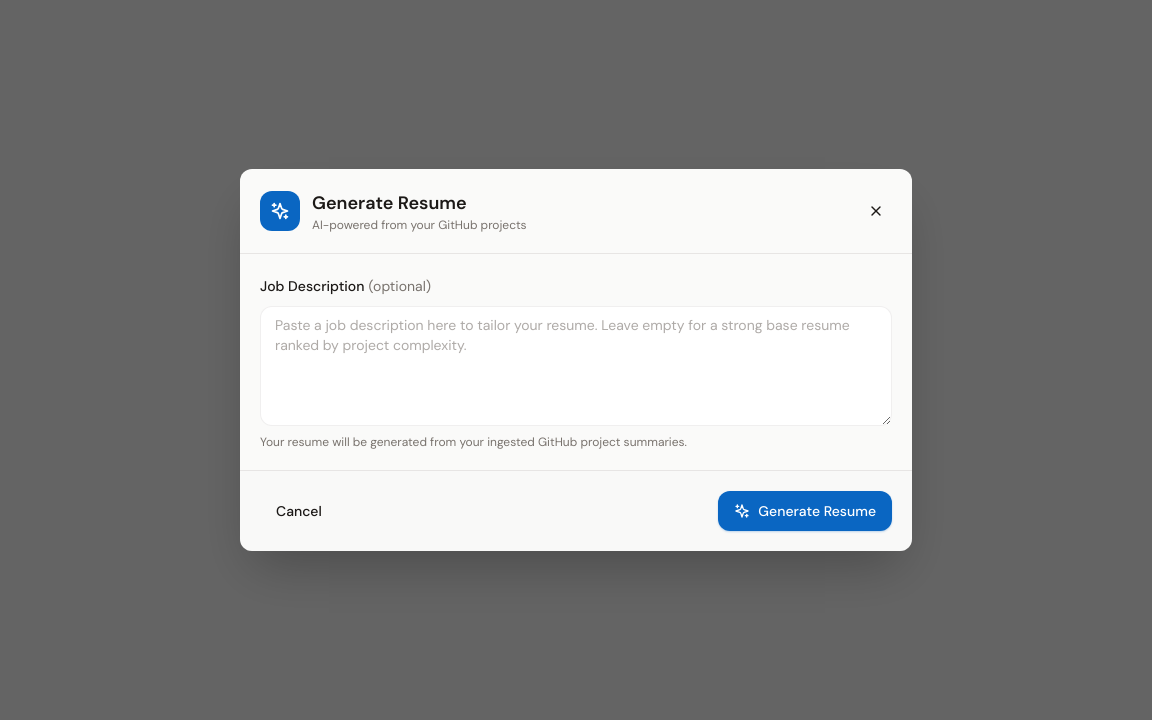
Test case: ResumeGenerator › shows the compile error when the LaTeX did not build
Click the button "Generate Resume" at (805, 511), box [718,491,892,531]
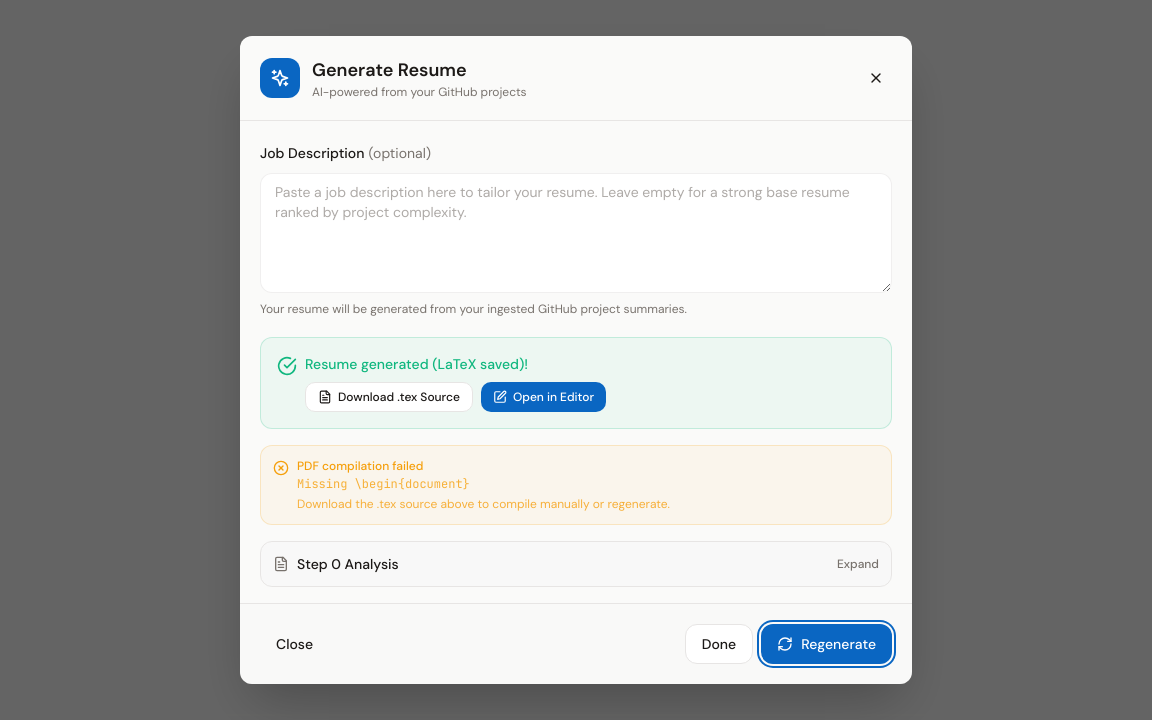
expect the text "PDF compilation failed" is shown: met, box [297,458,423,474]
expect the text "Missing \\begin{document}" is shown: met, box [297,476,470,492]
expect the text "Resume generated (LaTeX saved)!" is shown: met, box [305,355,528,373]
